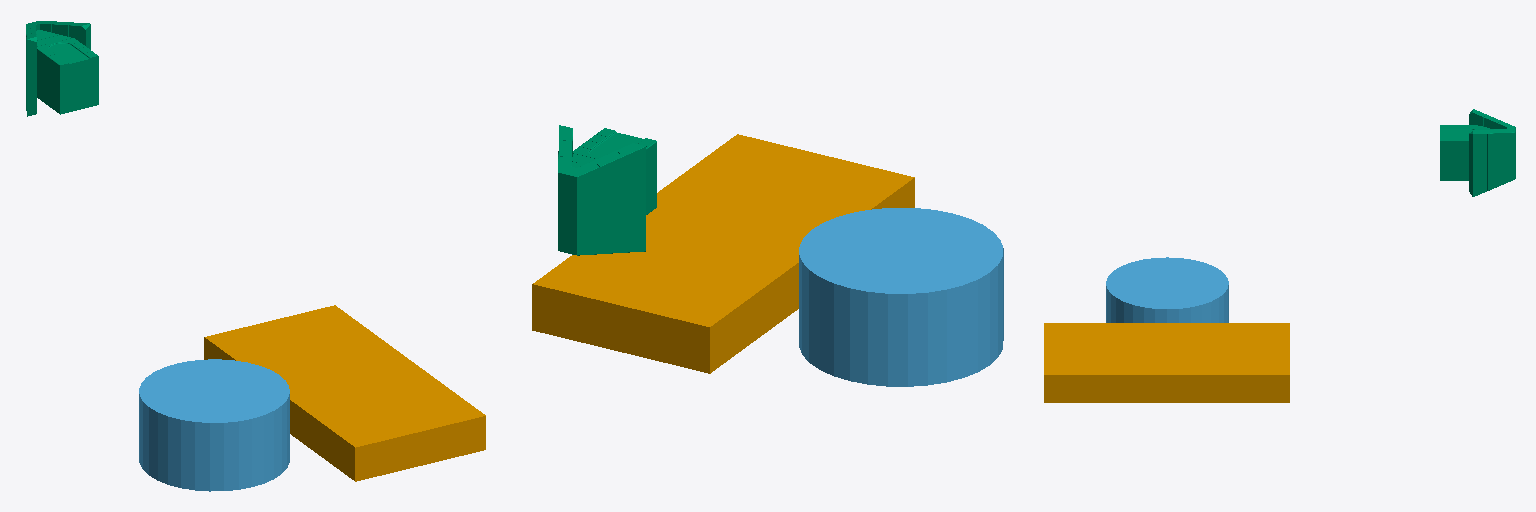
The robot description file, URDF, robot "robot":
<?xml version="1.0"?>
<robot name="robot">
  <link name="base_link">
    <visual>
      <geometry>
        <box size="0.04 0.08 0.01"/>
      </geometry>
    </visual>
  </link>
  <link name="motor_link">
    <visual>
      <geometry>
        <cylinder length="0.02" radius="0.02"/>
      </geometry>
    </visual>
  </link>
  <link name="joint_link">
    <visual>
      <origin xyz="0 -0.3 -0.05" />
      <geometry>
        <!-- <cylinder length="0.1" radius="0.003"/> -->
	<mesh filename="package://mechatrobot/urdf/my_mesh.stl" scale="0.001 0.001 0.001" />
      </geometry>
    </visual>
  </link>
  <link name="range">
  </link>

  <joint name="base_to_motor" type="fixed">
    <parent link="base_link" />
    <child link="motor_link" />
    <origin xyz="-0.04 0 0" />
  </joint>
  <joint name="base_to_range" type="fixed">
    <parent link="base_link" />
    <child link="range" />
    <origin xyz="0.04 0 0" />
  </joint>
  <joint name="joint1" type="revolute">
    <axis xyz="0 0 1"/>
    <limit effort="1000.0" lower="-3.14" upper="3.14" velocity="0.5"/>
    <origin xyz="0 0 0.1" />
    <parent link="motor_link" />
    <child link="joint_link" />
  </joint>

</robot>

--- Facts derived from the render (not from the file) ---
Views: 3 orthographic renders of the robot side by side, from view 1: azimuth 30°, elevation 25°; view 2: azimuth 150°, elevation 25°; view 3: azimuth 270°, elevation 25°.
Model robot with 4 links and 3 joints (1 revolute, 2 fixed), rooted at base_link, posed all joints at 0.
Visible links, largest first — view 1: base_link, motor_link, joint_link; view 2: base_link, motor_link, joint_link; view 3: base_link, motor_link, joint_link.
Boxes of the visible links, <box> form: base_link: <box>204,305,485,481</box>; motor_link: <box>139,359,289,491</box>; joint_link: <box>26,21,98,116</box>; base_link: <box>532,134,914,373</box>; motor_link: <box>799,208,1003,386</box>; joint_link: <box>558,125,656,255</box>; base_link: <box>1044,323,1289,402</box>; motor_link: <box>1106,257,1228,322</box>; joint_link: <box>1440,109,1515,196</box>.
Size in the robot's own frame: 0.08 by 0.1532 by 0.0827 metres.
Meshes: 1 distinct files referenced, 1 mesh visuals loaded (1 binary STL).